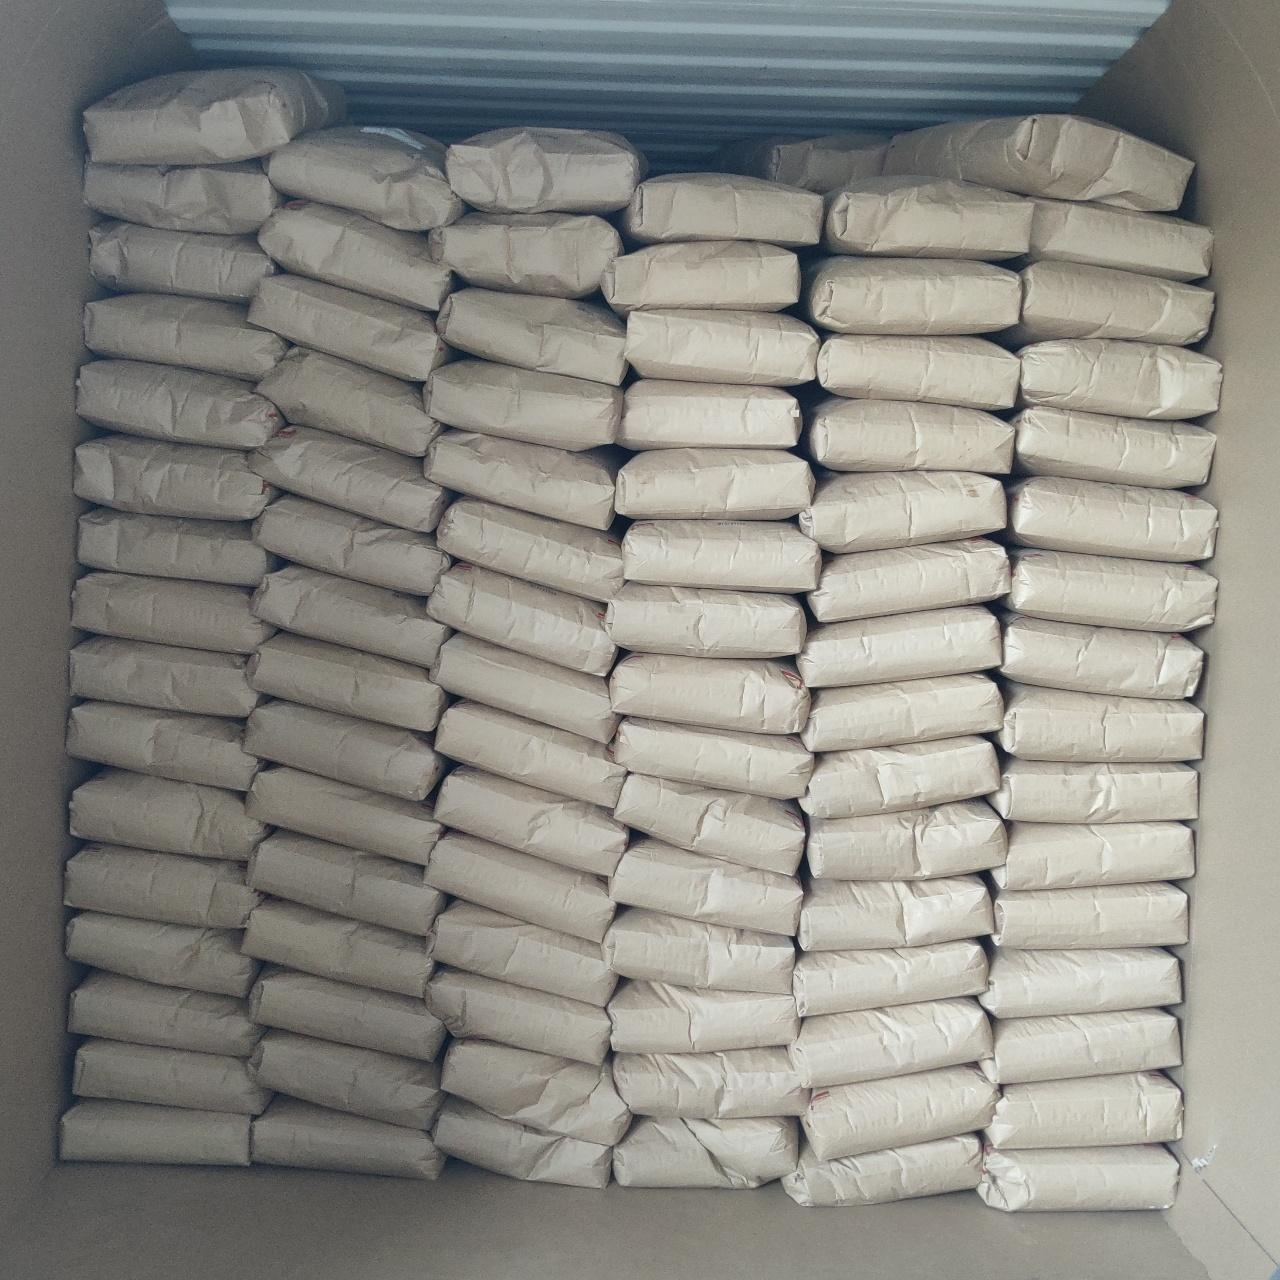sack: (881, 114, 1193, 209), (86, 68, 346, 162), (260, 200, 452, 309), (252, 274, 448, 380), (428, 561, 614, 672), (266, 125, 462, 230), (425, 832, 614, 940), (436, 768, 626, 874), (246, 832, 444, 934), (250, 425, 445, 526), (428, 900, 614, 1005), (433, 634, 617, 740), (250, 632, 445, 730), (438, 702, 622, 806), (246, 702, 445, 798), (258, 348, 438, 454), (254, 566, 445, 666), (444, 1040, 628, 1142), (610, 836, 799, 934), (244, 898, 433, 996), (254, 496, 445, 592), (248, 765, 440, 862), (250, 966, 445, 1060), (438, 498, 622, 598), (425, 433, 617, 526), (252, 1030, 438, 1126), (804, 1065, 996, 1158), (70, 768, 266, 858), (76, 360, 282, 445), (617, 776, 802, 870), (438, 288, 624, 382), (790, 1000, 990, 1085), (1006, 476, 1214, 558), (448, 125, 644, 212), (1005, 549, 1214, 629), (425, 968, 606, 1062), (68, 702, 260, 790), (425, 360, 622, 445), (86, 294, 286, 377), (76, 436, 278, 518), (824, 178, 1030, 258), (433, 1096, 610, 1189), (806, 258, 1020, 334), (1000, 614, 1201, 694), (1010, 263, 1212, 342), (612, 719, 812, 798), (66, 844, 260, 926), (799, 472, 1006, 550), (1012, 408, 1214, 486), (68, 912, 256, 996), (994, 682, 1201, 758), (808, 540, 1006, 620), (74, 572, 272, 652), (610, 652, 806, 731), (602, 908, 794, 990), (70, 972, 260, 1054), (808, 799, 1006, 878), (798, 608, 998, 686), (1022, 196, 1210, 278), (252, 1098, 444, 1178), (802, 738, 998, 816), (430, 215, 620, 294), (804, 674, 1000, 750), (80, 508, 278, 583), (72, 636, 258, 716), (1017, 340, 1218, 414), (806, 399, 1012, 470), (988, 1073, 1182, 1148), (90, 222, 274, 300), (818, 334, 1017, 406), (626, 173, 822, 246), (794, 940, 986, 1014), (799, 876, 990, 949), (606, 584, 806, 654), (982, 1010, 1178, 1082), (782, 1133, 980, 1204), (626, 309, 813, 382), (76, 1040, 270, 1110), (614, 1048, 806, 1118), (610, 980, 798, 1051), (992, 822, 1190, 890), (990, 756, 1196, 822), (624, 520, 818, 590), (618, 450, 812, 518), (86, 162, 280, 230), (604, 241, 798, 309), (980, 948, 1180, 1014), (992, 884, 1186, 948), (978, 1146, 1176, 1210), (617, 1118, 798, 1186), (62, 1099, 248, 1164), (622, 380, 798, 445)
